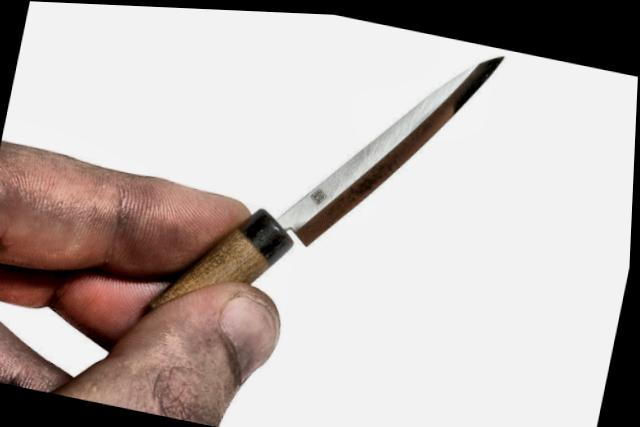knife: (150, 6, 511, 384)
